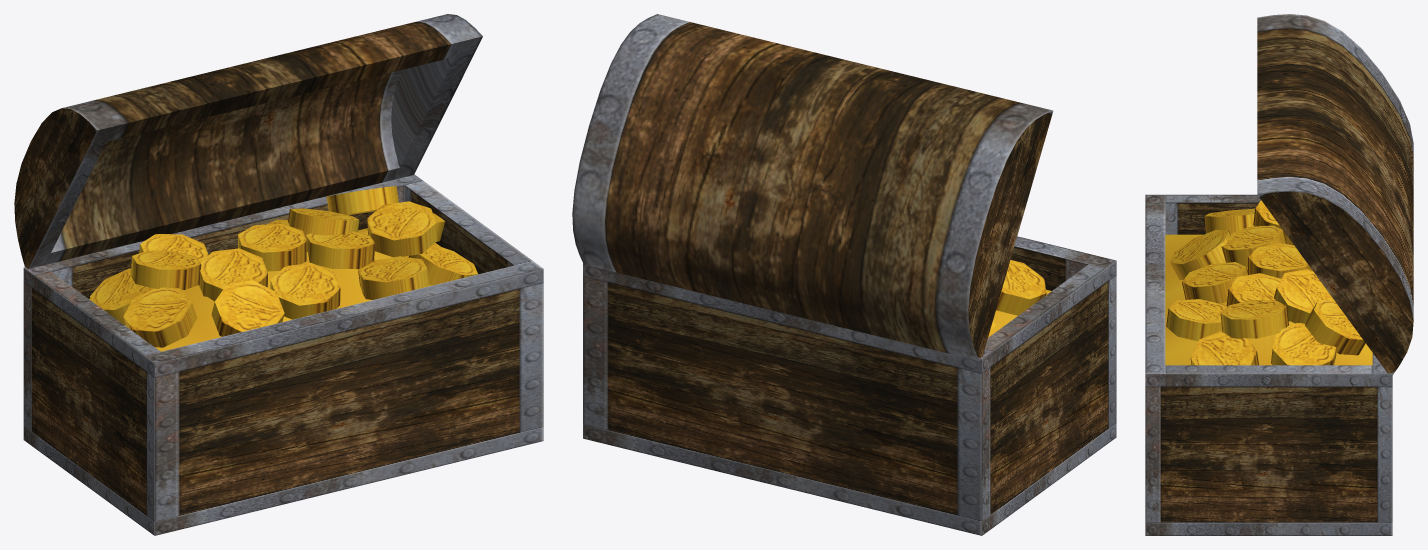
The model's file is treasure_chest.obj.
3 views of the same model, side by side, from view 1: azimuth 30°, elevation 25°; view 2: azimuth 150°, elevation 25°; view 3: azimuth 270°, elevation 25° (orthographic). The views are drawn at different scales.
Visible parts, largest first — view 1: Box03, Line04, Cylinder13, Cylinder21, Cylinder10, Cylinder14, Box04, Cylinder06, Cylinder15, Cylinder18, Cylinder11, Cylinder09 (+5 smaller); view 2: Line04, Box03, Cylinder13; view 3: Box03, Line04, Box04, Cylinder21, Cylinder20, Cylinder19, Cylinder18, Cylinder17, Cylinder16, Cylinder10, Cylinder14, Cylinder06 (+4 smaller).
Part boxes in pixels (left/top/right/bottom): Box03: left=23, top=174, right=543, bottom=535; Line04: left=14, top=14, right=482, bottom=268; Cylinder13: left=123, top=287, right=197, bottom=347; Cylinder21: left=367, top=201, right=437, bottom=257; Cylinder10: left=270, top=263, right=340, bottom=319; Cylinder14: left=211, top=280, right=284, bottom=336; Box04: left=89, top=228, right=440, bottom=351; Cylinder06: left=238, top=223, right=306, bottom=271; Cylinder15: left=130, top=250, right=201, bottom=289; Cylinder18: left=358, top=256, right=429, bottom=299; Cylinder11: left=199, top=248, right=267, bottom=301; Cylinder09: left=305, top=231, right=375, bottom=269; Line04: left=572, top=14, right=1053, bottom=360; Box03: left=583, top=236, right=1116, bottom=535; Cylinder13: left=996, top=260, right=1046, bottom=315; Box03: left=1145, top=194, right=1392, bottom=535; Line04: left=1257, top=14, right=1413, bottom=374; Box04: left=1165, top=234, right=1372, bottom=365; Cylinder21: left=1220, top=300, right=1288, bottom=338; Cylinder20: left=1305, top=299, right=1365, bottom=355; Cylinder19: left=1271, top=322, right=1336, bottom=365; Cylinder18: left=1166, top=299, right=1226, bottom=341; Cylinder17: left=1274, top=269, right=1333, bottom=323; Cylinder16: left=1190, top=330, right=1258, bottom=365; Cylinder10: left=1182, top=262, right=1247, bottom=303; Cylinder14: left=1170, top=229, right=1230, bottom=279; Cylinder06: left=1248, top=243, right=1312, bottom=278.
Size of the model in its own units: 24.06 by 21.59 by 15.26.
2 materials, 2 textured.
